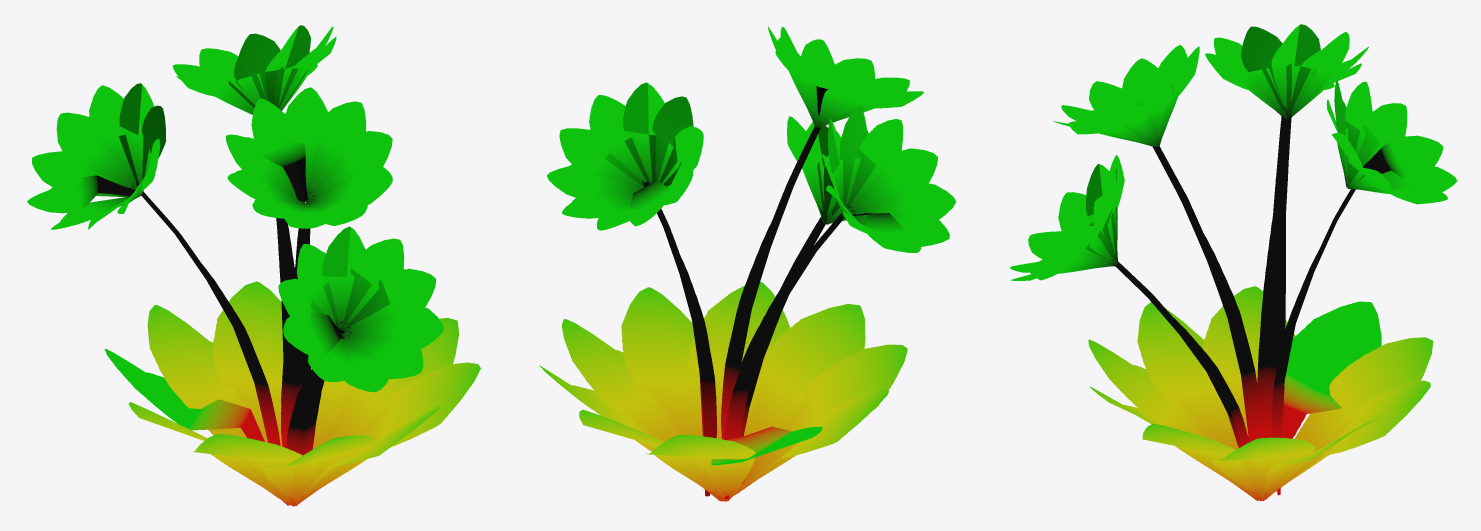
Rendered from Flower2.fbx.
3 views of the same model, side by side, from view 1: azimuth 30°, elevation 25°; view 2: azimuth 150°, elevation 25°; view 3: azimuth 270°, elevation 25° (orthographic). The views are drawn at different scales.
Visible parts, largest first — view 1: Flower2; view 2: Flower2; view 3: Flower2.
Part boxes in pixels (x1,y1,x2,y2): Flower2: [27, 25, 480, 506]; Flower2: [540, 27, 955, 501]; Flower2: [1010, 24, 1457, 501].
Size of the model in its own units: 3.11 by 3.32 by 3.18.
